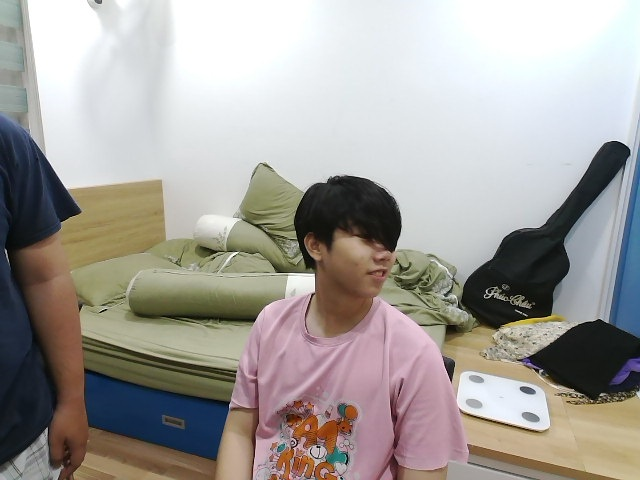face: (294, 174, 402, 297)
